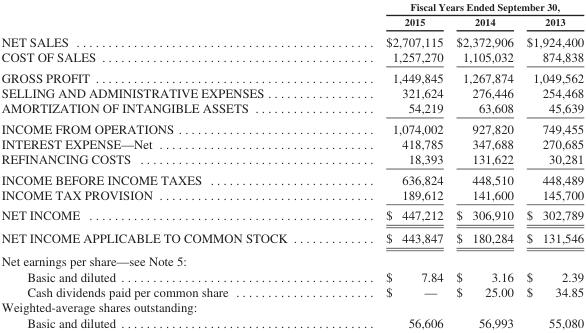table: (0, 0, 583, 329)
table column: (0, 0, 336, 329), (336, 0, 449, 329), (449, 0, 519, 329), (519, 0, 583, 329)
table column header: (0, 0, 583, 30)
table projected row header: (0, 249, 583, 268), (0, 299, 583, 314)
table row: (0, 226, 583, 249), (0, 204, 583, 226), (0, 30, 583, 49), (0, 249, 583, 268), (0, 66, 583, 84), (0, 100, 583, 118), (0, 151, 583, 169), (0, 169, 583, 187), (0, 49, 583, 66), (0, 118, 583, 135), (0, 187, 583, 204), (0, 14, 583, 30), (0, 84, 583, 100), (0, 135, 583, 151), (0, 268, 583, 284), (0, 284, 583, 299), (0, 299, 583, 314), (0, 314, 583, 329), (0, 0, 583, 14)
table spanning cell: (336, 0, 583, 14)
